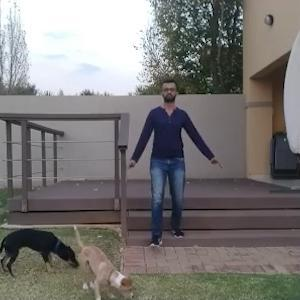land: (131, 89, 209, 235)
